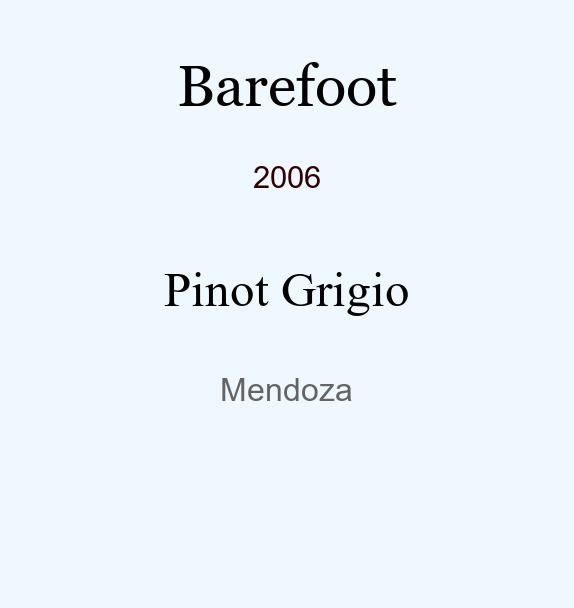brand: (177, 52, 397, 96)
region: (220, 372, 353, 395)
variety: (164, 262, 410, 306)
vintage: (253, 159, 321, 181)
